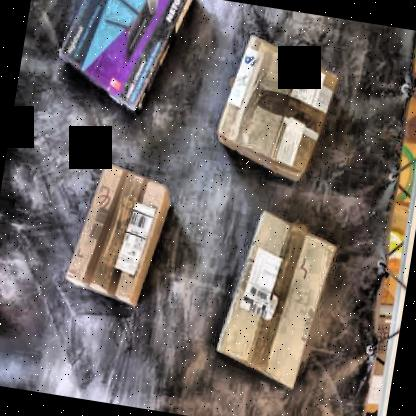no defect parcel: (206, 194, 348, 401), (206, 23, 353, 195), (34, 0, 205, 125), (54, 154, 188, 313)
